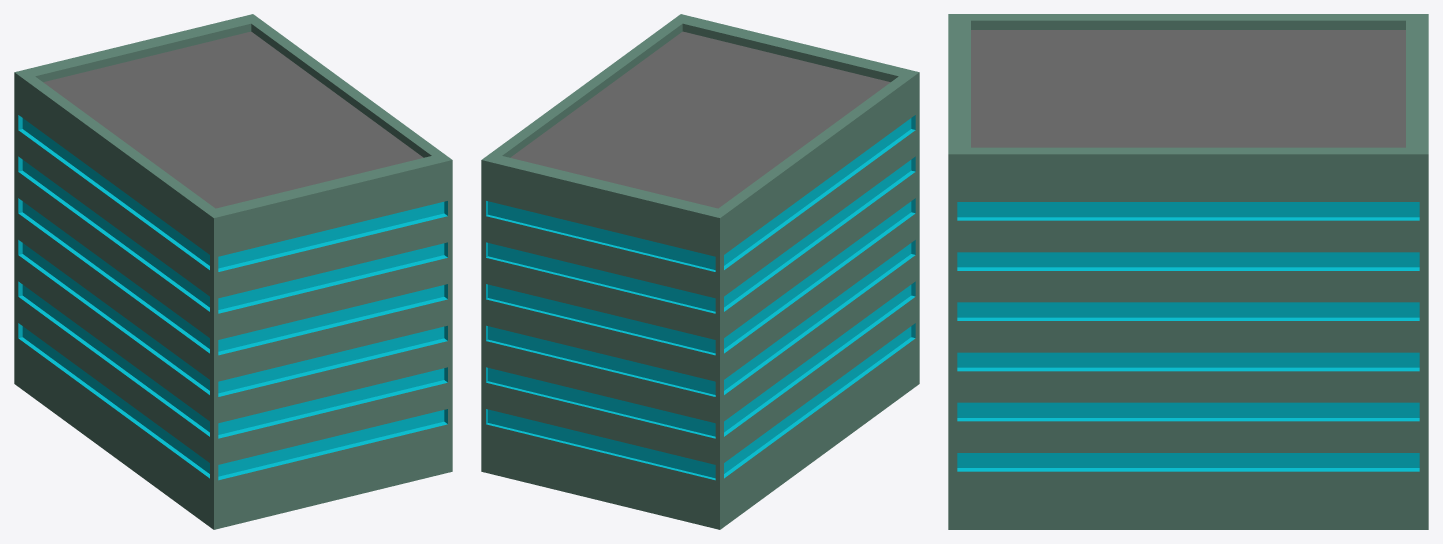
The model's file is building4.fbx.
The picture shows the model from 3 angles, left to right: view 1: azimuth 30°, elevation 25°; view 2: azimuth 150°, elevation 25°; view 3: azimuth 270°, elevation 25°; orthographic projection. The views are drawn at different scales.
Parts seen in each view (by area): view 1: building5; view 2: building5; view 3: building5.
Boxes of the visible parts, box(x1,y1,x2,y2) form: building5: box(14, 14, 452, 529); building5: box(481, 14, 919, 529); building5: box(948, 14, 1428, 529).
Bounding box in the file's own units: 1612 × 2012 × 2332.
